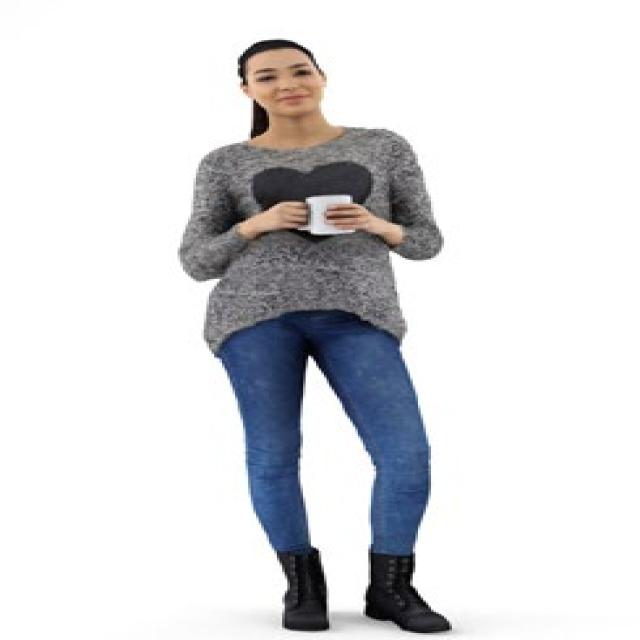standing: (176, 37, 468, 640)
